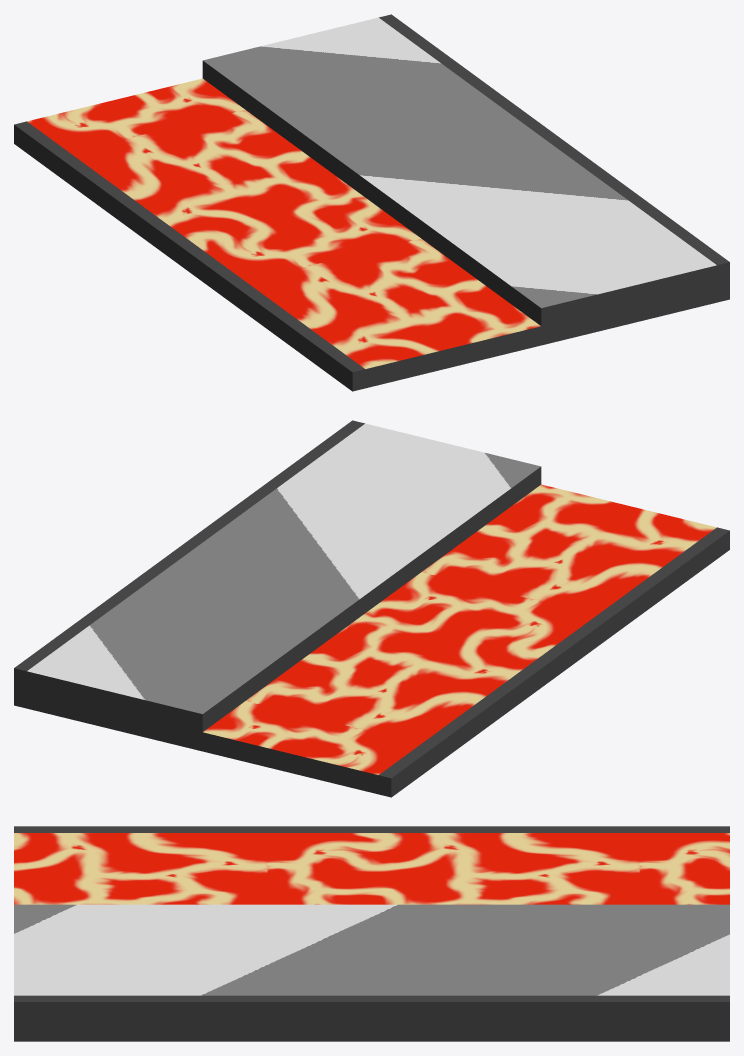
The model's file is platform.lava.fbx.
3 renders of one model, top to bottom at view 1: azimuth 30°, elevation 25°; view 2: azimuth 150°, elevation 25°; view 3: azimuth 270°, elevation 25°, orthographic. The views are drawn at different scales.
Parts seen in each view (by area): view 1: main.001; view 2: main.001; view 3: main.001.
Boxes of the visible parts, x1,y1,x2,y2 form: main.001: (14,14,729,391); main.001: (14,420,729,797); main.001: (14,826,729,1041).
Size of the model in its own units: 481 by 45.44 by 747.
